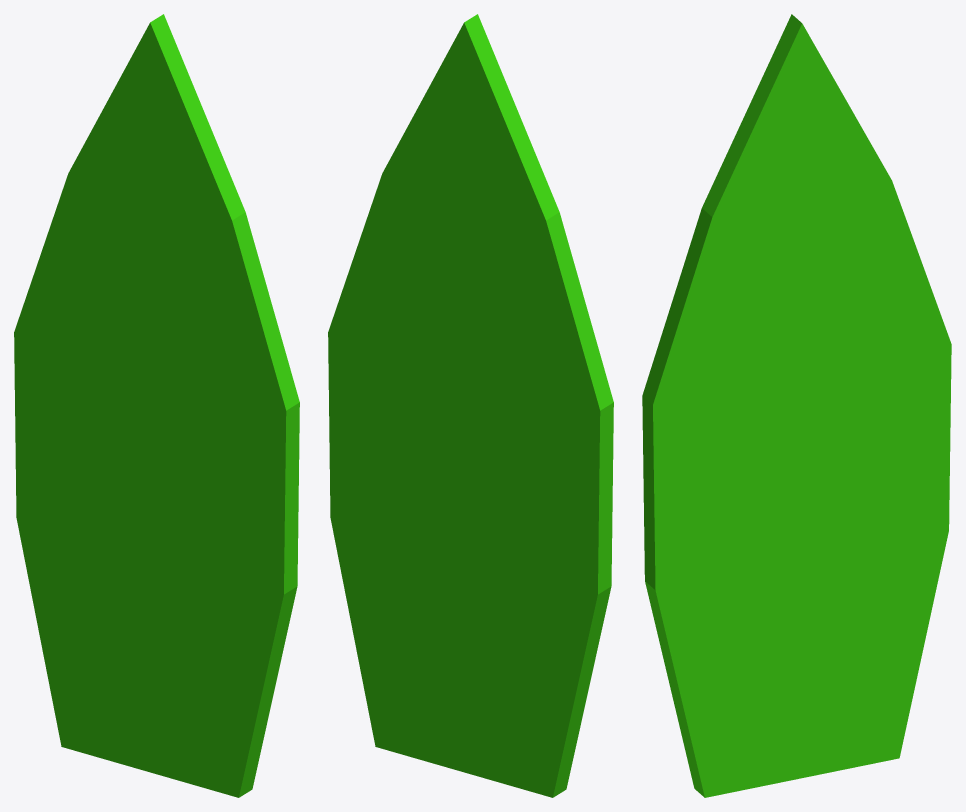
The model's file is Rigged Grass Export 89.fbx.
3 views of the same model, side by side, from view 1: azimuth 30°, elevation 25°; view 2: azimuth 210°, elevation 25°; view 3: azimuth 270°, elevation 25° (orthographic).
Visible parts, largest first — view 1: Grass 2 Right Right 5; view 2: Grass 2 Right Right 5; view 3: Grass 2 Right Right 5.
Part boxes in pixels (bbox=[...]): Grass 2 Right Right 5: bbox=[14, 14, 299, 797]; Grass 2 Right Right 5: bbox=[328, 14, 613, 797]; Grass 2 Right Right 5: bbox=[642, 14, 951, 797].
Size of the model in its own units: 70.25 by 353 by 131.
